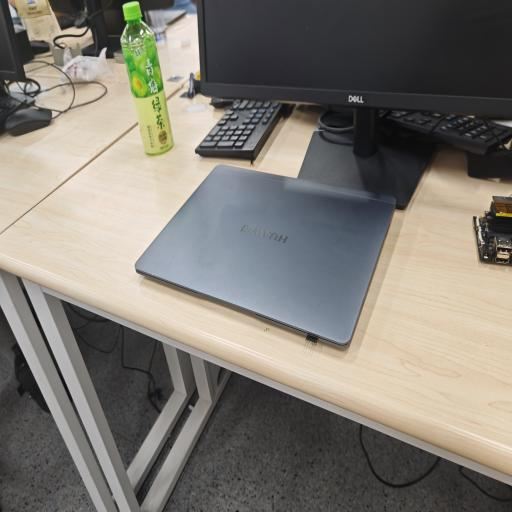laptop: (135, 165, 395, 345)
mouse: (4, 107, 52, 136)
